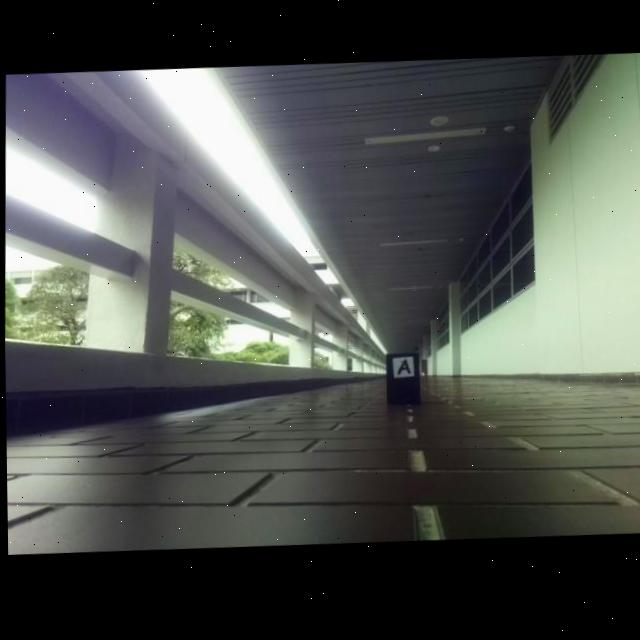A: (395, 363, 409, 379)
